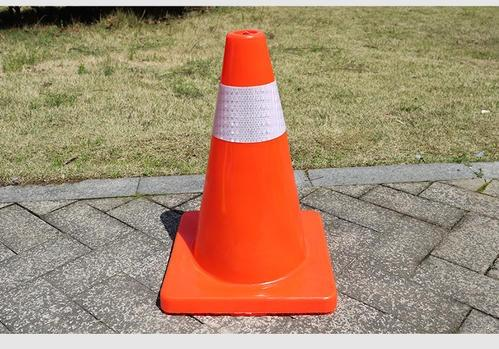cone_barrel: (179, 29, 319, 303)
